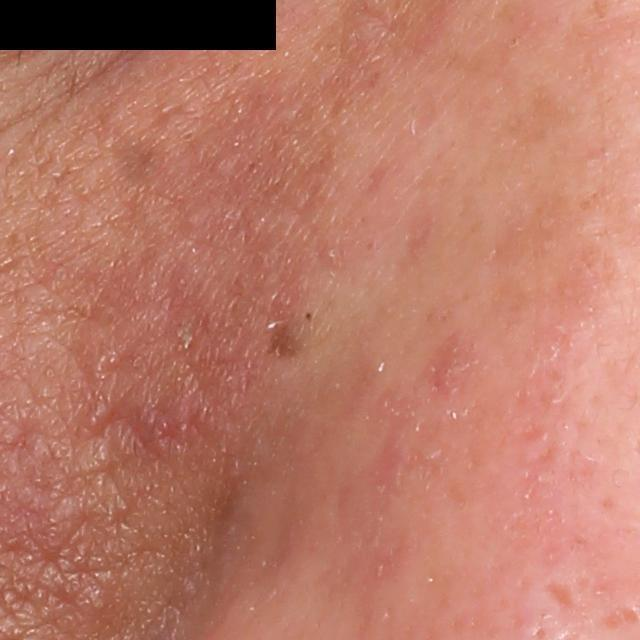atrophic_scar: (542, 579, 579, 612), (600, 603, 638, 633)
nevus: (266, 316, 309, 366)
